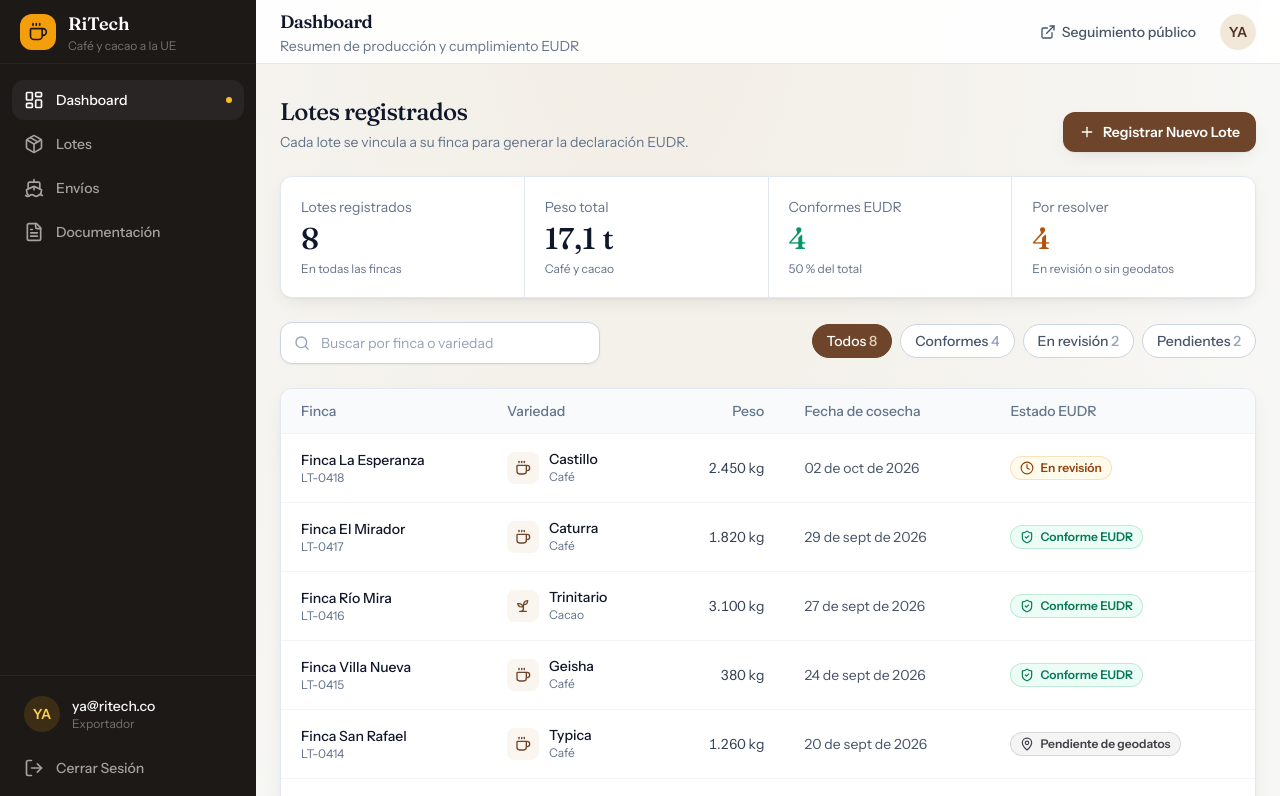
App (integración: rutas + sesión + vistas) › registrar un lote desde el dashboard actualiza los contadores del resumen
The width and height of the screenshot is (1280, 796).
Expected: the text "8" next to "17,1 t" is shown, [301, 220, 319, 257]
Click the button "Registrar Nuevo Lote". click: click(1159, 132)
box: [1063, 112, 1256, 152]
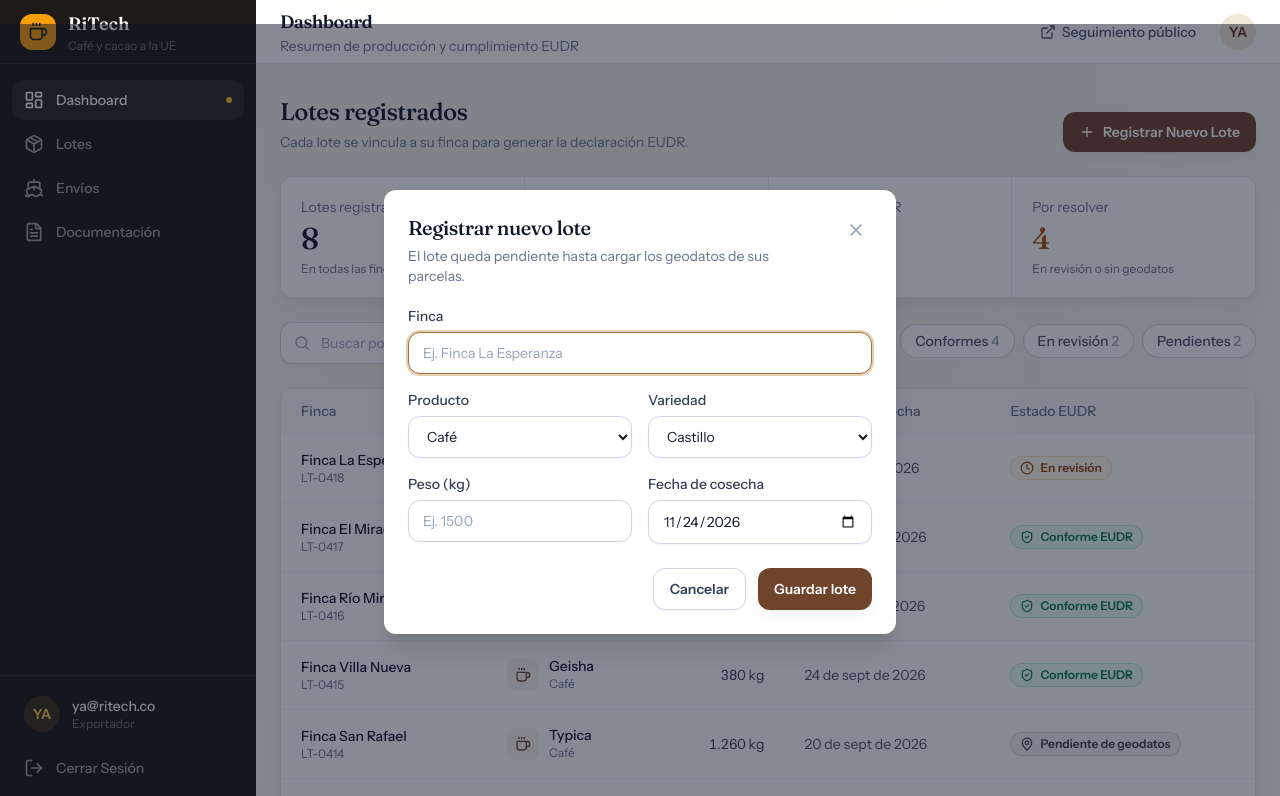
Type "Finca Integración" into the field labelled "Finca". click: (640, 353)
box: [408, 332, 872, 374]
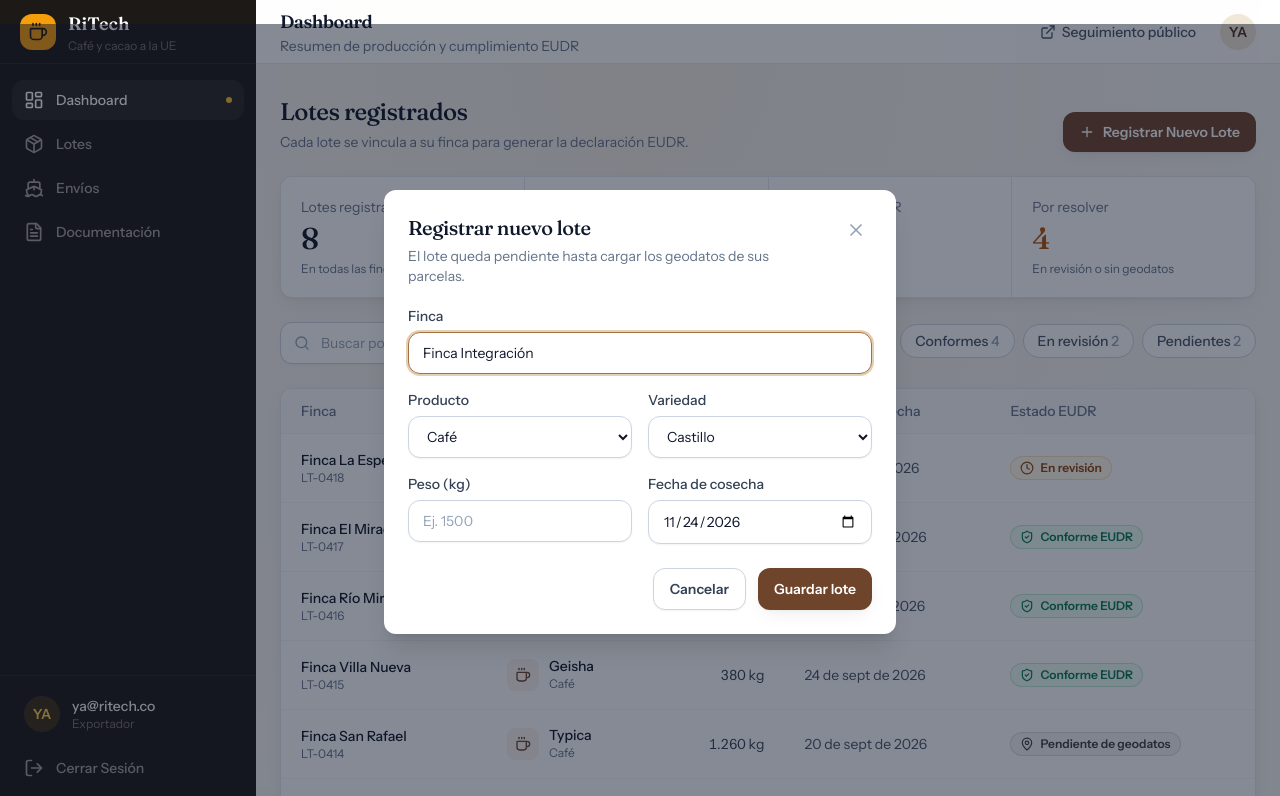
Type "1000" into the number field labelled "Peso (kg)". click: (520, 521)
box: [408, 500, 632, 542]
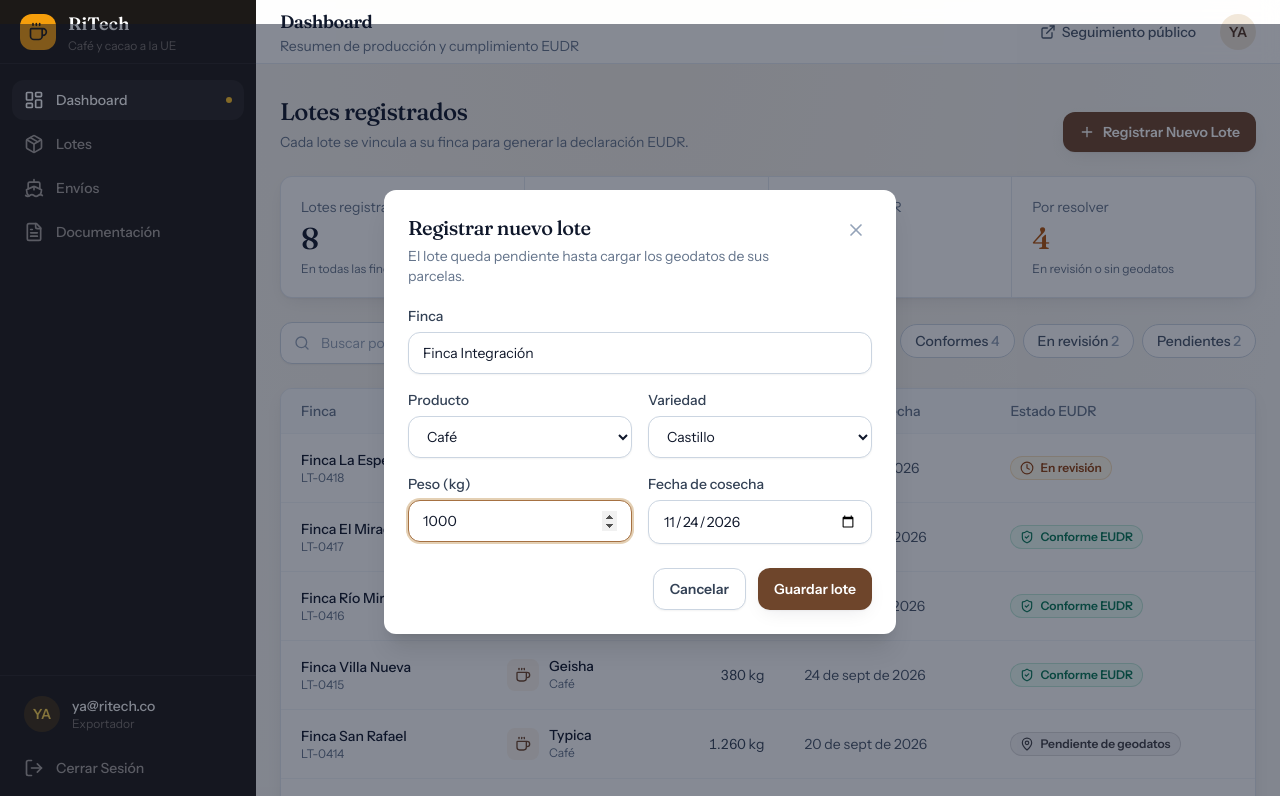
Click the button "Guardar lote". click: click(815, 589)
box: [758, 568, 872, 610]
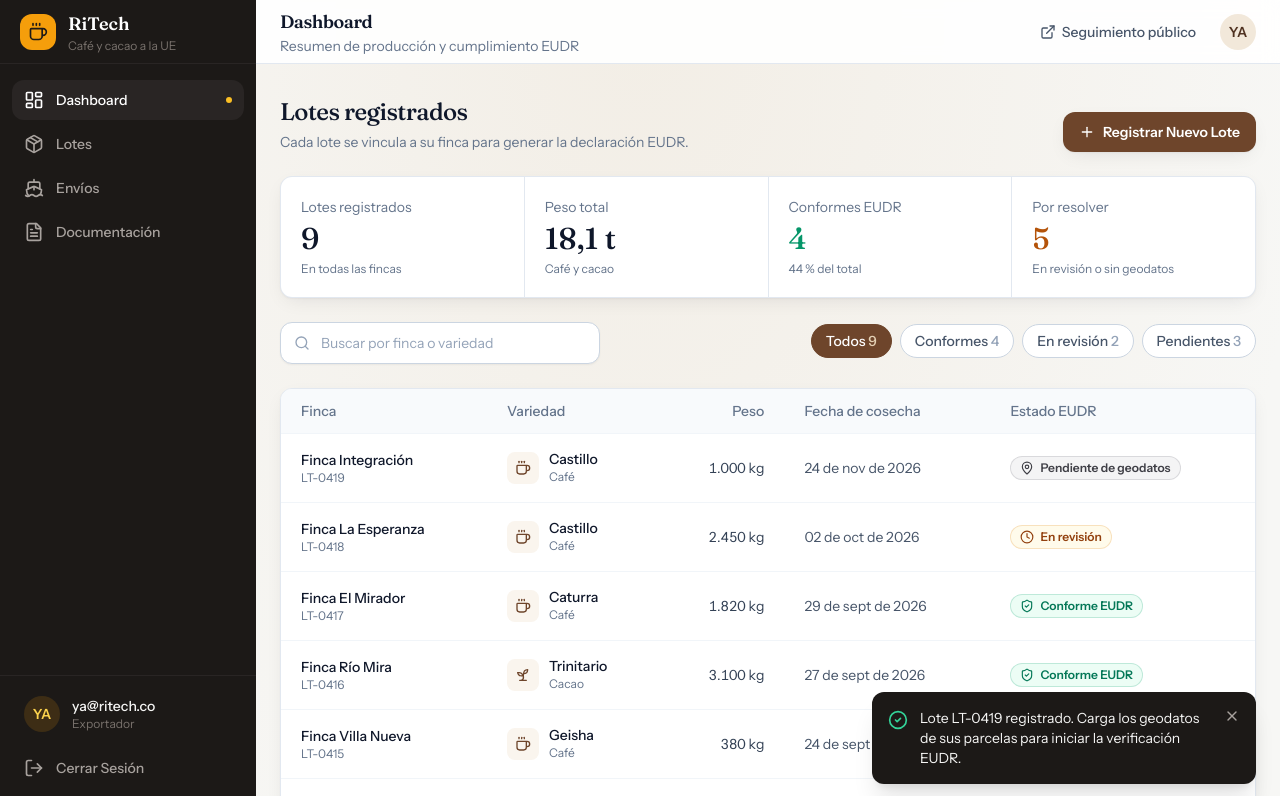
Expected: the text "9" next to "18,1 t" is shown, [301, 220, 319, 257]
Expected: the text "5" is shown, [1032, 220, 1050, 257]
